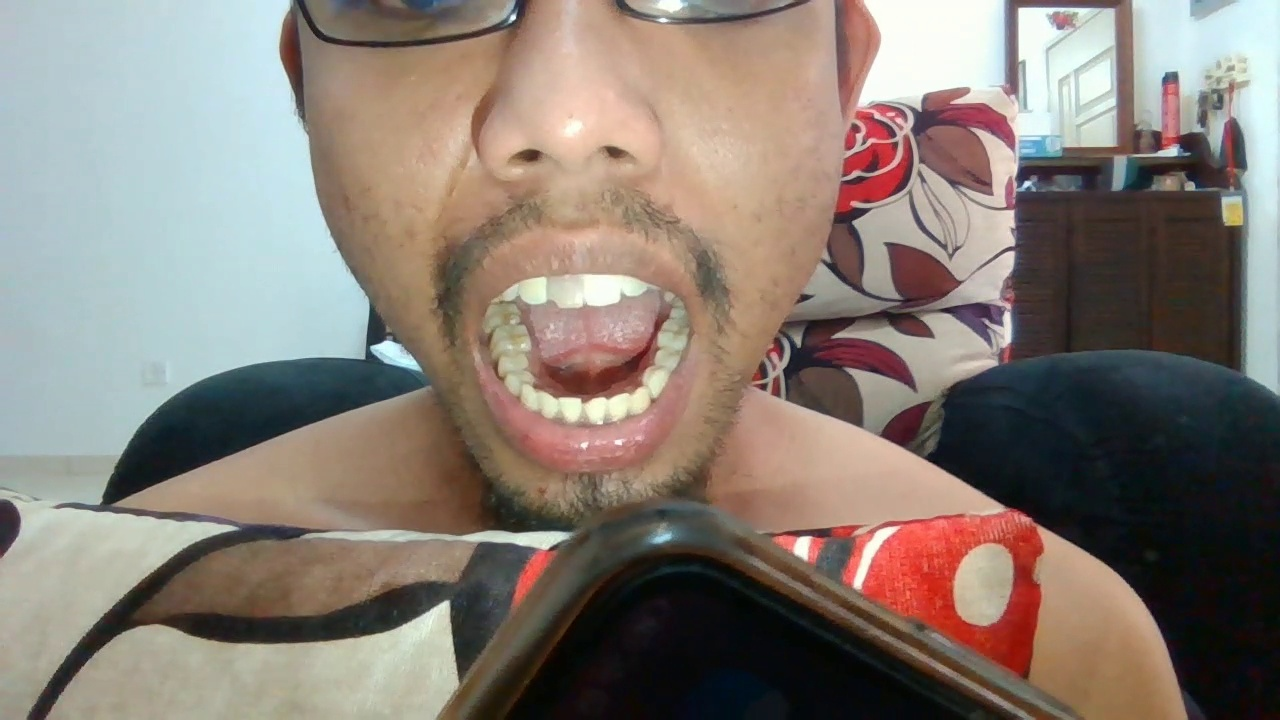1st Molar: (657, 321, 689, 348)
1st Premolar: (643, 366, 670, 398)
2nd Molar: (483, 303, 522, 326)
2nd Premolar: (491, 325, 531, 353), (506, 371, 536, 392), (497, 352, 528, 372), (654, 347, 682, 368)
Canine: (630, 386, 651, 414), (520, 381, 539, 408), (499, 282, 519, 301)
Central Incisor: (583, 272, 622, 306), (546, 275, 584, 309), (583, 393, 608, 424), (558, 395, 583, 425)
Lateral Incisor: (519, 274, 546, 304), (621, 271, 649, 297), (536, 387, 558, 419), (608, 392, 630, 422)
